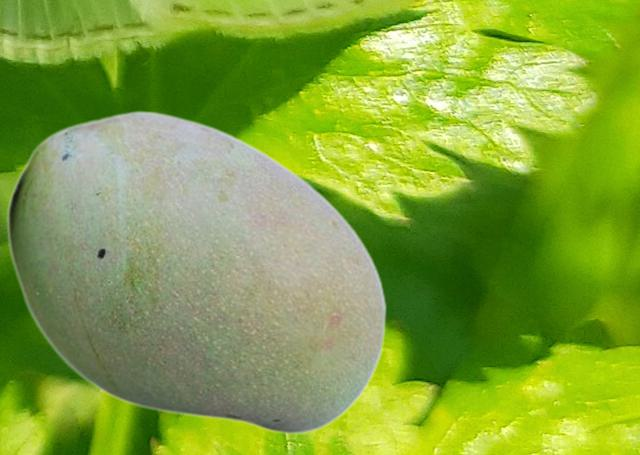green_mango: (6, 109, 386, 434)
